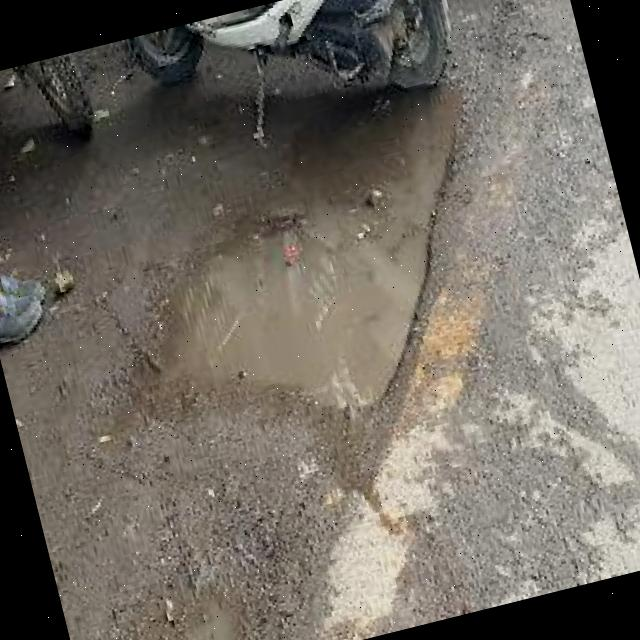stagnation: (106, 96, 502, 451)
